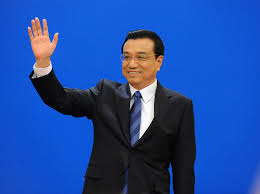palm: (25, 16, 60, 60)
